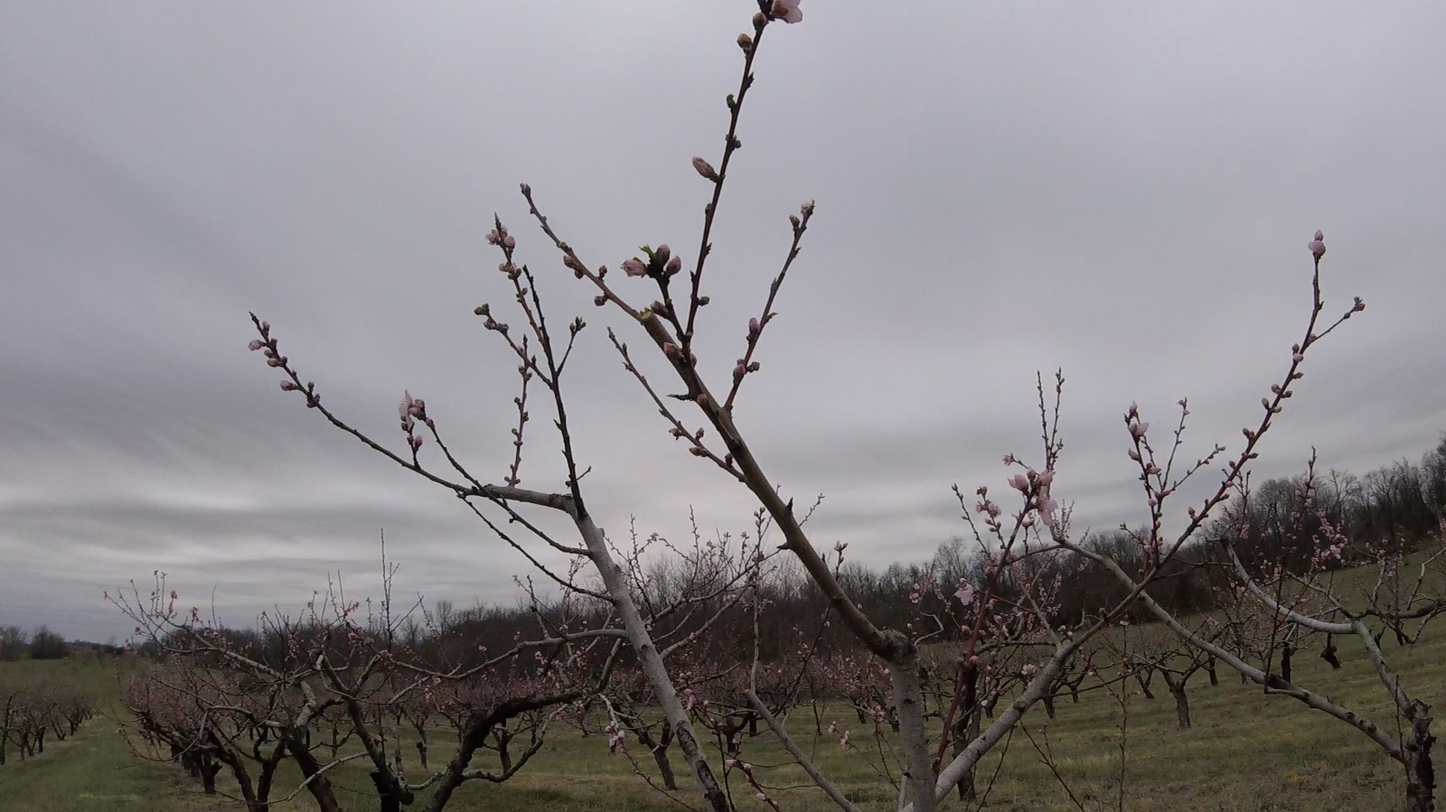flower: (1031, 458, 1059, 529), (399, 390, 426, 435), (1128, 407, 1156, 437), (772, 0, 803, 24), (620, 257, 648, 278), (953, 583, 976, 606), (1309, 230, 1326, 255), (1008, 475, 1029, 490), (486, 230, 502, 246), (989, 501, 1002, 518), (504, 233, 516, 247)
